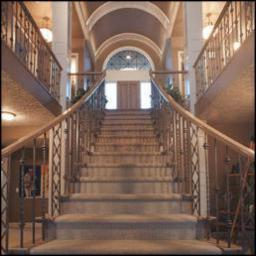Escaleras: (27, 107, 238, 253)
